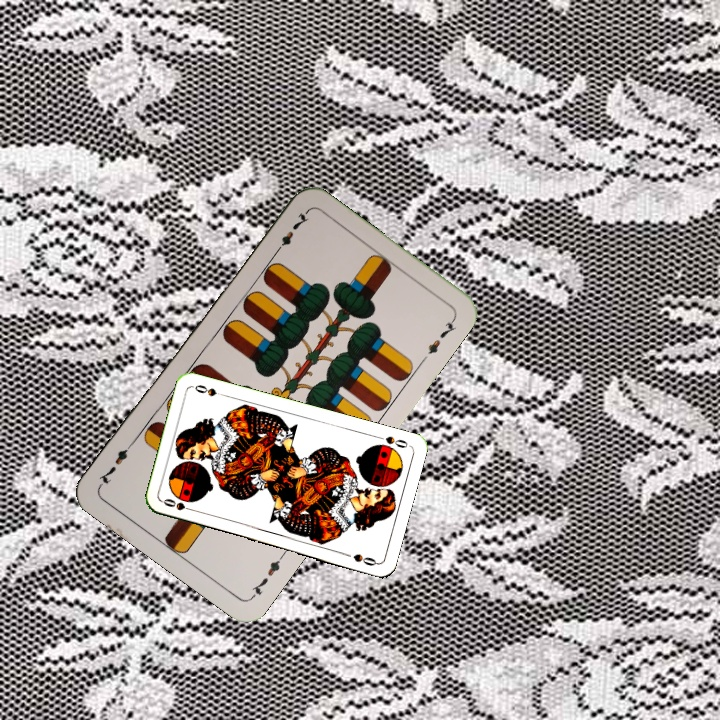E7: (269, 208, 311, 258), (247, 549, 287, 600)
SO: (159, 494, 199, 515), (372, 431, 412, 451)
